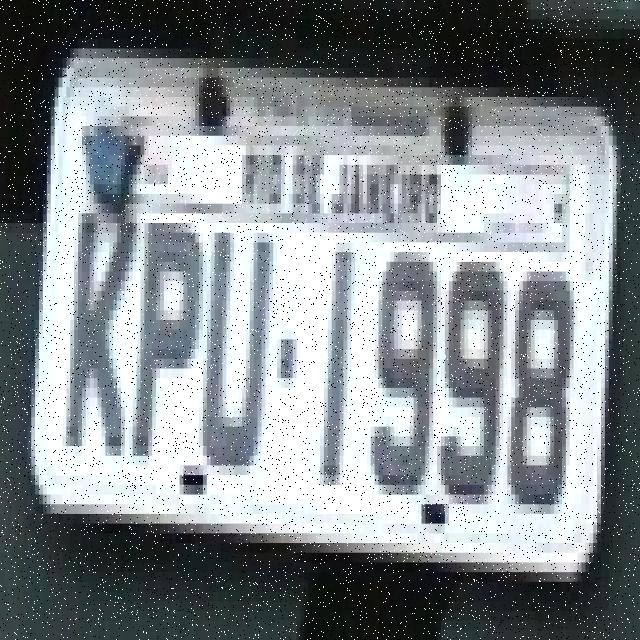licenseplate: (24, 0, 629, 604)
